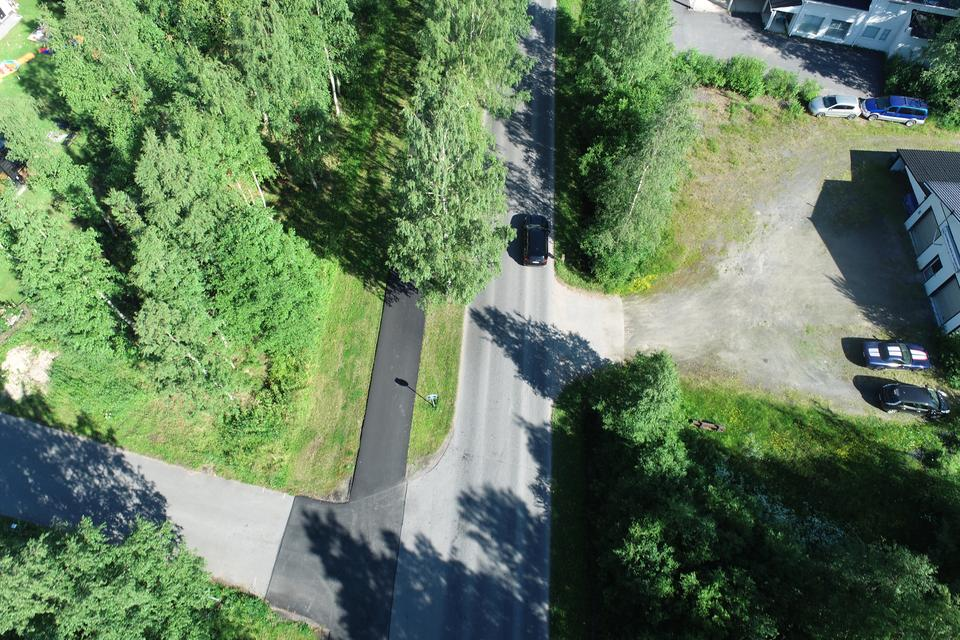intersection: (438, 221, 724, 416), (274, 461, 594, 634)
